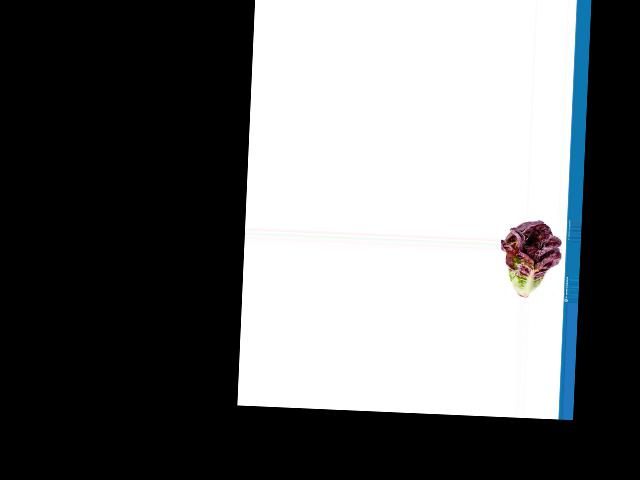lettuce: (500, 220, 563, 299)
